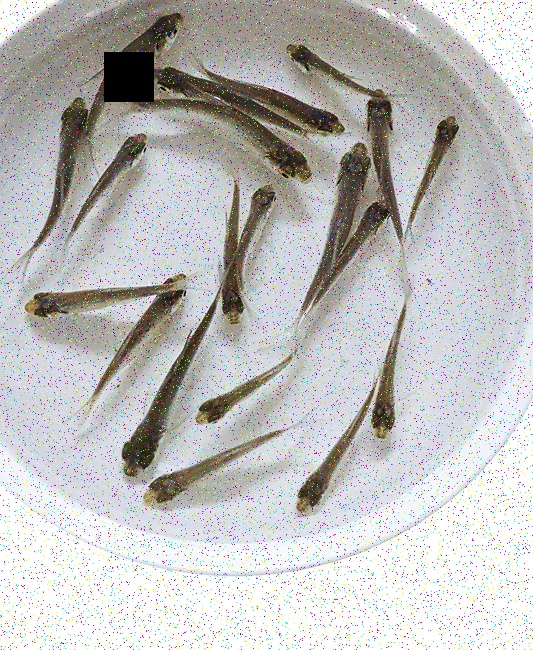fry: (117, 324, 178, 485), (118, 255, 185, 389), (280, 412, 357, 527), (34, 88, 94, 233), (4, 267, 145, 328), (101, 2, 187, 102), (211, 114, 319, 185), (139, 453, 256, 510), (358, 83, 410, 203), (178, 369, 280, 426), (86, 119, 150, 209), (327, 135, 372, 259), (205, 226, 254, 337), (368, 319, 411, 444), (260, 80, 345, 141), (418, 104, 466, 203), (275, 35, 357, 89), (235, 174, 280, 255), (152, 61, 222, 108), (353, 194, 393, 272)
